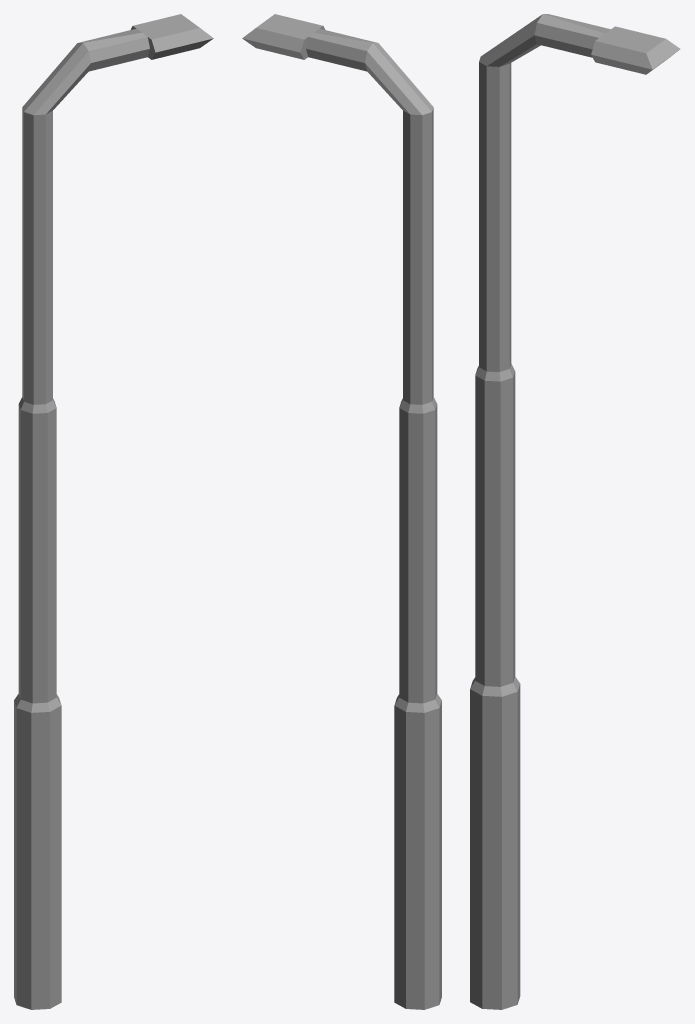
Rendered from Lantaarnpaal.fbx.
The picture shows the model from 3 angles, left to right: view 1: azimuth 30°, elevation 25°; view 2: azimuth 150°, elevation 25°; view 3: azimuth 330°, elevation 25°; orthographic projection. The views are drawn at different scales.
Parts seen in each view (by area): view 1: Cylinder; view 2: Cylinder; view 3: Cylinder.
Boxes of the visible parts, box(x1,y1,x2,y2) form: Cylinder: box(14, 14, 213, 1009); Cylinder: box(242, 14, 441, 1009); Cylinder: box(470, 14, 680, 1009).
Bounding box in the file's own units: 130 × 637 × 32.61.
